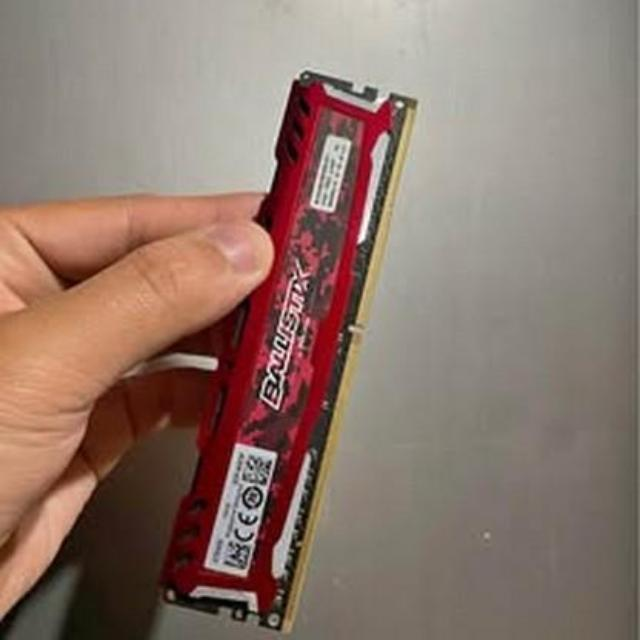RAM: (159, 35, 419, 640)
